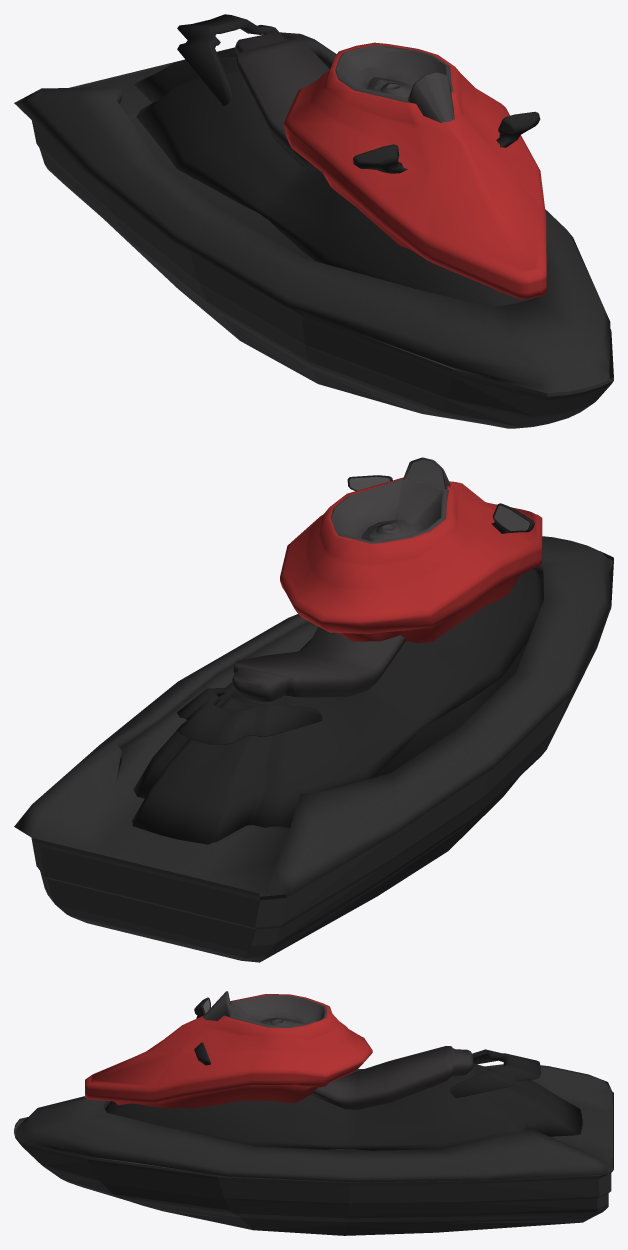
File: body.FBX
The picture shows the model from 3 angles, top to bottom: view 1: azimuth 30°, elevation 25°; view 2: azimuth 150°, elevation 25°; view 3: azimuth 270°, elevation 25°; orthographic projection. The views are drawn at different scales.
Parts seen in each view (by area): view 1: vvottom2, red, vvvottom3, vvvottom, what2, chair, whatwhatwhat; view 2: vvottom2, vvvottom3, vvvottom, red, chair, what2, pppp; view 3: vvvottom, vvottom2, vvvottom3, red, chair, what2, whatwhatwhat.
Boxes of the visible parts, <box> form: vvottom2: <box>14,32,610,393</box>; red: <box>284,42,546,299</box>; vvvottom3: <box>135,14,533,306</box>; vvvottom: <box>32,47,613,428</box>; what2: <box>335,45,454,122</box>; chair: <box>235,32,329,171</box>; whatwhatwhat: <box>353,111,540,173</box>; vvottom2: <box>14,536,610,894</box>; vvvottom3: <box>131,569,543,844</box>; vvvottom: <box>31,551,613,962</box>; red: <box>280,477,542,643</box>; chair: <box>232,626,406,701</box>; what2: <box>330,457,450,543</box>; pppp: <box>349,459,529,531</box>; vvvottom: <box>14,1091,613,1235</box>; vvottom2: <box>15,1064,612,1182</box>; vvvottom3: <box>105,1049,582,1150</box>; red: <box>85,994,372,1108</box>; chair: <box>311,1046,473,1109</box>; what2: <box>203,991,326,1027</box>; whatwhatwhat: <box>194,997,210,1065</box>.
Size of the model in its own units: 65.32 by 58.83 by 153.
